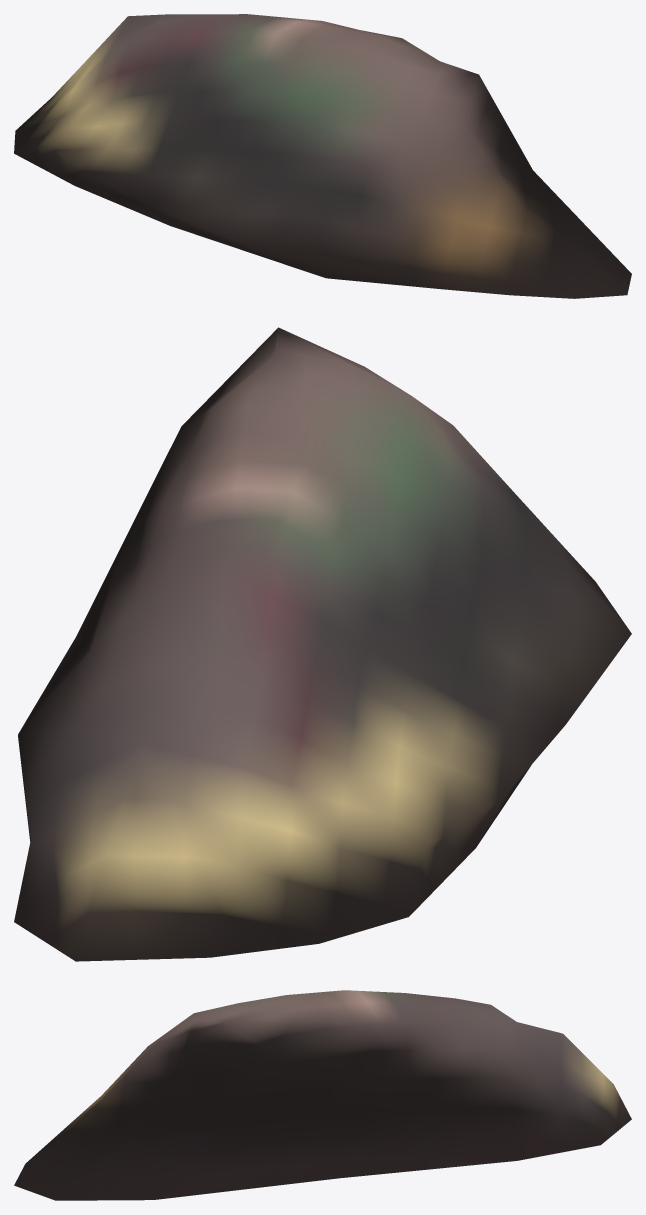
The model's file is Beach_Rocks_5.glb.
3 renders of one model, top to bottom at view 1: azimuth 30°, elevation 25°; view 2: azimuth 150°, elevation 25°; view 3: azimuth 270°, elevation 25°, orthographic. The views are drawn at different scales.
Visible parts, largest first — view 1: Object_2.038; view 2: Object_2.038; view 3: Object_2.038.
Boxes of the visible parts, x1,y1,x2,y2 form: Object_2.038: (14,14,631,298); Object_2.038: (14,327,631,961); Object_2.038: (14,990,631,1200).
Size of the model in its own units: 2.56 by 1.22 by 4.59.
1 material, 1 textured.
